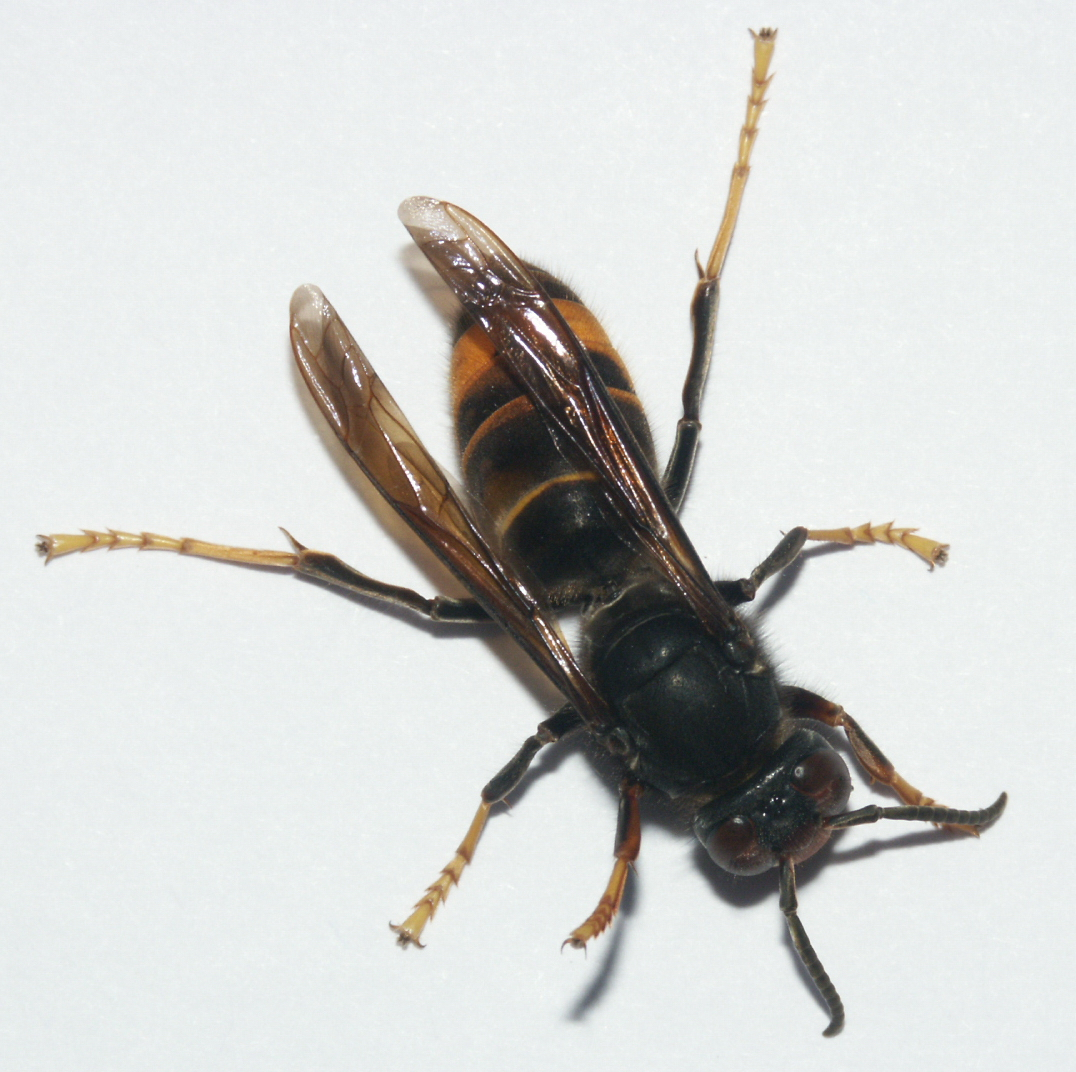hornet: (277, 164, 945, 975)
